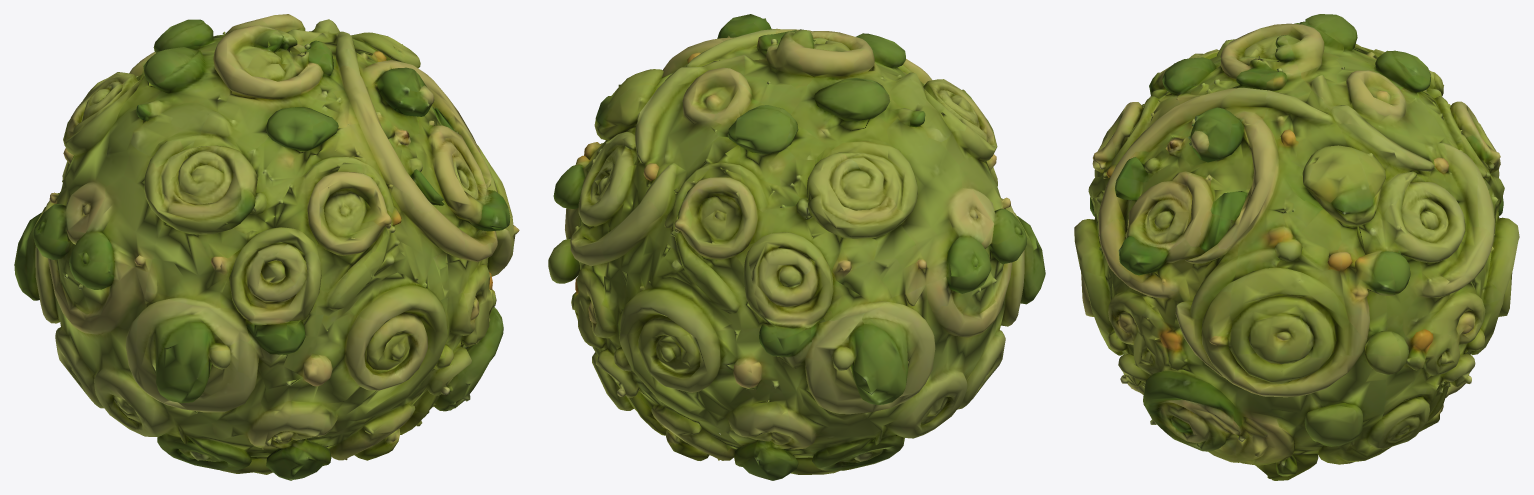
The model's file is rubber_barrage.glb.
3 views of the same model, side by side, from view 1: azimuth 30°, elevation 25°; view 2: azimuth 150°, elevation 25°; view 3: azimuth 270°, elevation 25° (orthographic). The views are drawn at different scales.
Visible parts, largest first — view 1: tripo_node_18a2549d-687d-4de1-9619-456e30a2d7b0; view 2: tripo_node_18a2549d-687d-4de1-9619-456e30a2d7b0; view 3: tripo_node_18a2549d-687d-4de1-9619-456e30a2d7b0.
Boxes of the visible parts, x1,y1,x2,y2 form: tripo_node_18a2549d-687d-4de1-9619-456e30a2d7b0: [14, 14, 519, 480]; tripo_node_18a2549d-687d-4de1-9619-456e30a2d7b0: [548, 14, 1045, 480]; tripo_node_18a2549d-687d-4de1-9619-456e30a2d7b0: [1074, 14, 1519, 480].
Bounding box in the file's own units: 0.9799 × 0.9318 × 0.9297.
Materials: 1 (1 with a texture image).
